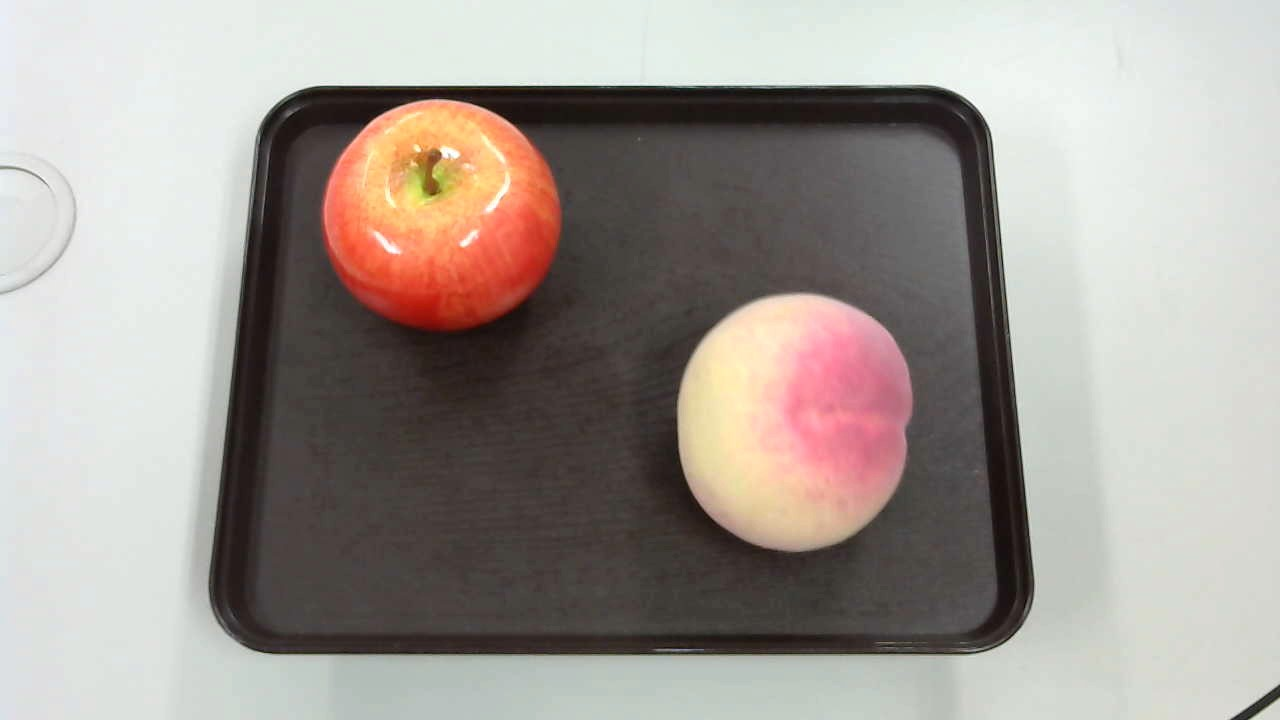peach: (666, 291, 917, 556)
red apple: (316, 97, 561, 330)
